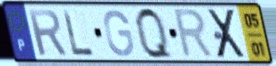G: (102, 8, 136, 58)
L: (60, 7, 96, 58)
Q: (133, 5, 176, 62)
R: (172, 7, 217, 60), (25, 8, 70, 58)
X: (206, 7, 248, 61)
